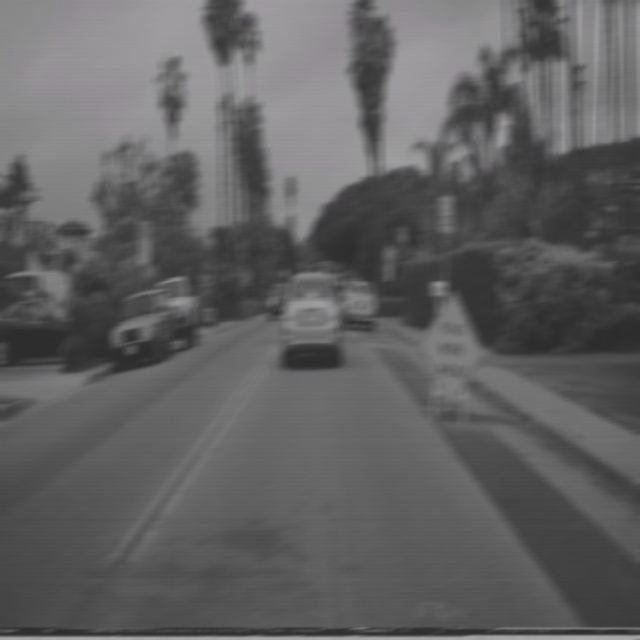speedLimit30: (438, 197, 454, 234)
